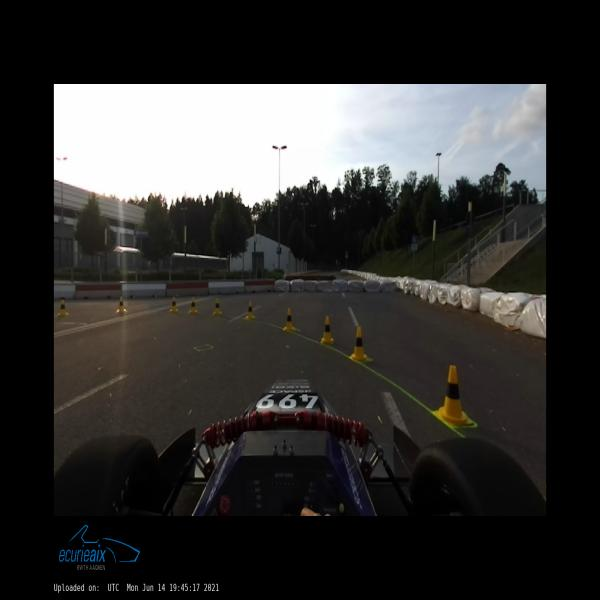yellow_cone: (434, 366, 473, 428), (350, 327, 369, 364), (321, 316, 334, 344), (284, 308, 296, 332), (117, 296, 127, 314), (58, 300, 69, 316), (246, 302, 255, 320), (213, 298, 222, 315), (189, 298, 198, 313), (170, 296, 178, 312)
